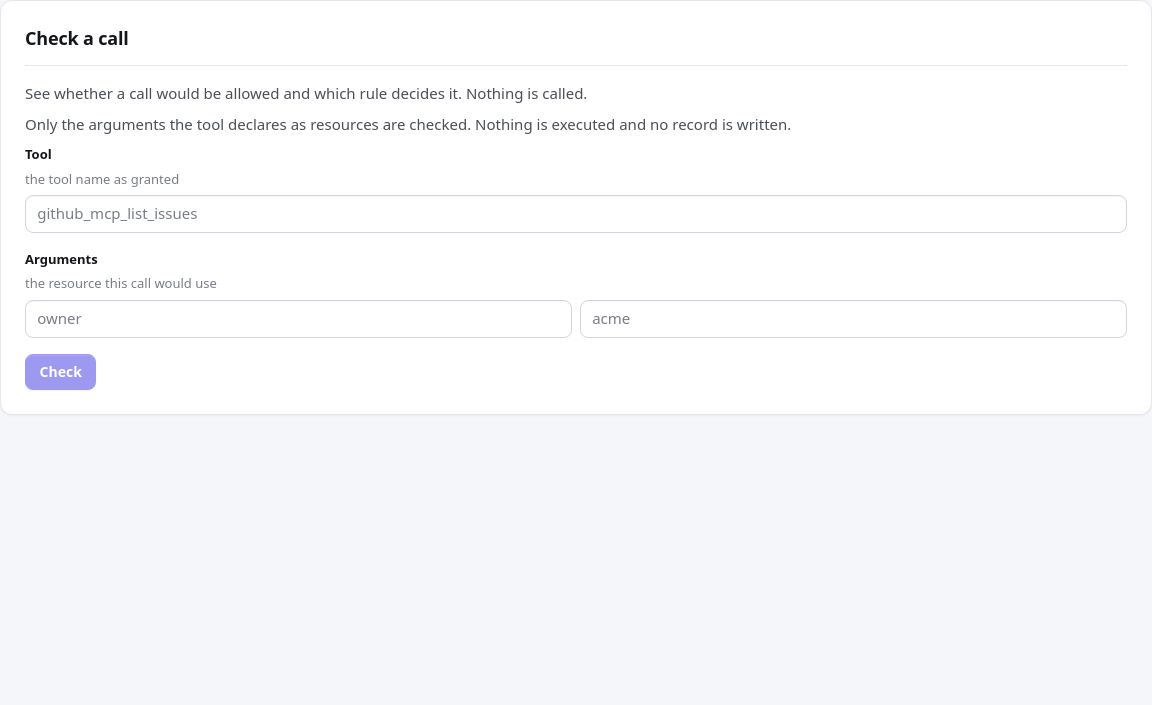
Scenario: the answer › says attributed to when one did allow it
The image size is (1152, 705).
Step 1. Type "t" into the field labelled "Tool the tool name as granted" → (576, 214), box [25,195,1127,233]
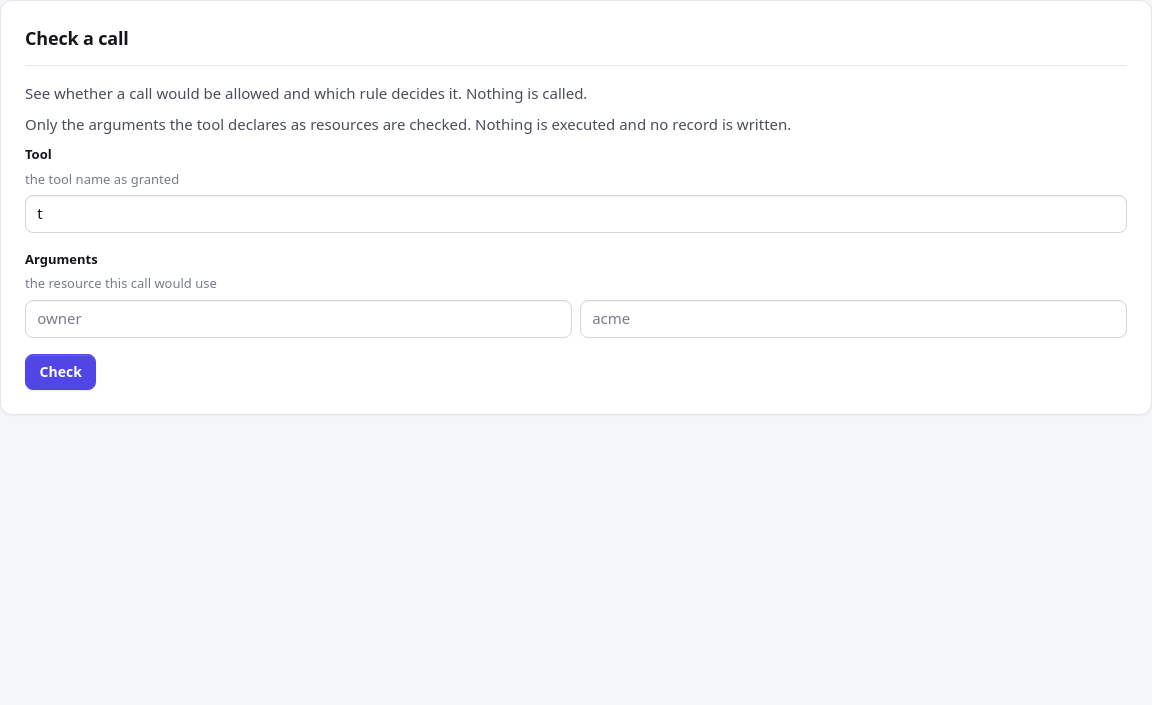
Step 2. Click the button "Check" → (61, 372), box [25,354,96,390]
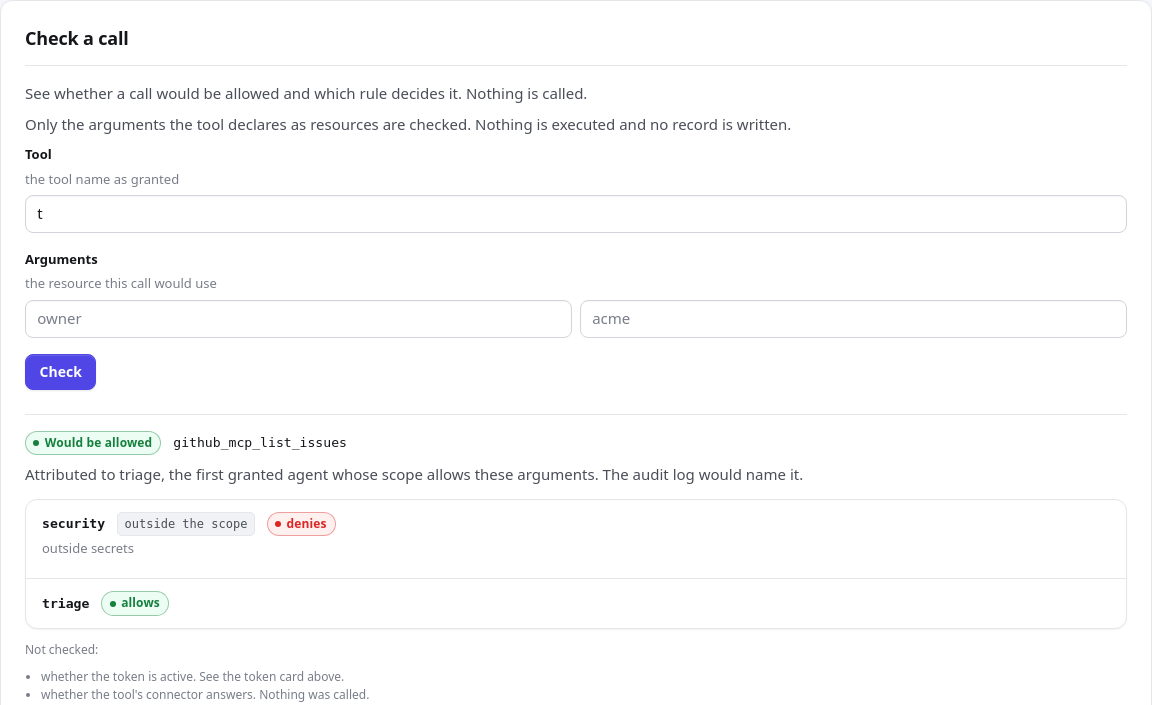
Expected: the text "Attributed to triage" is shown, [25,464,803,484]
